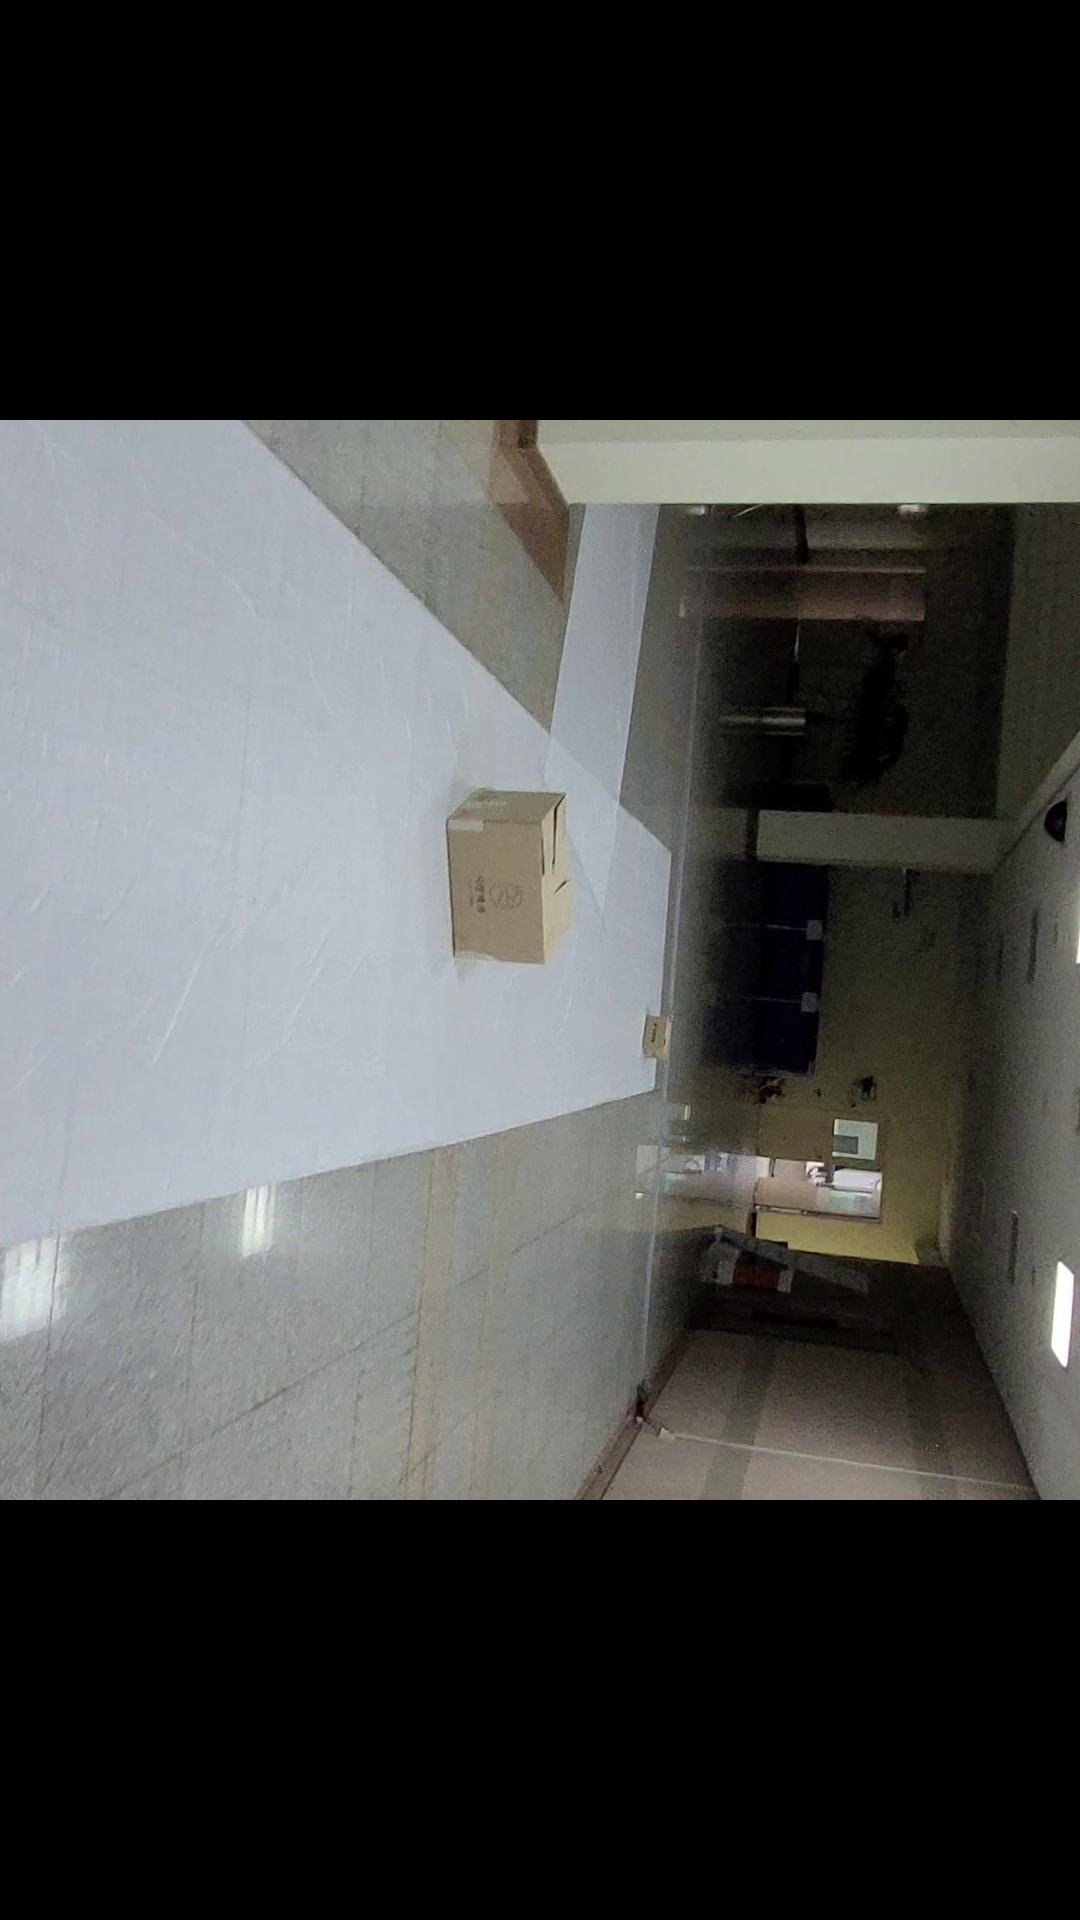Box: (422, 753, 597, 1005), (592, 981, 687, 1100)
